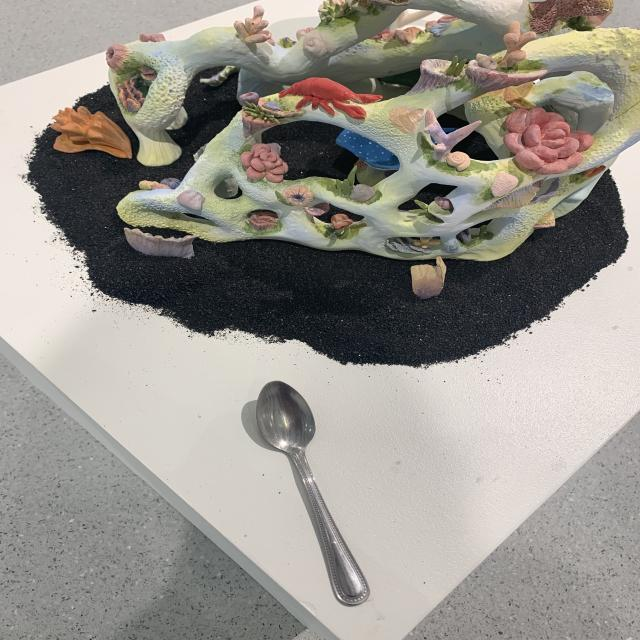Spoon: (253, 377, 379, 610)
